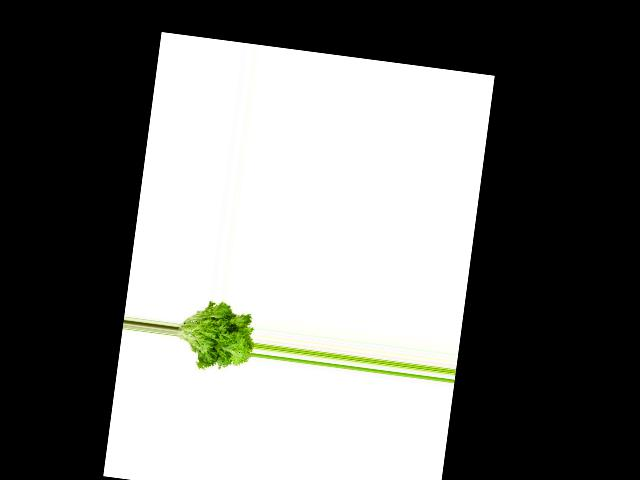lettuce: (171, 293, 258, 375)
